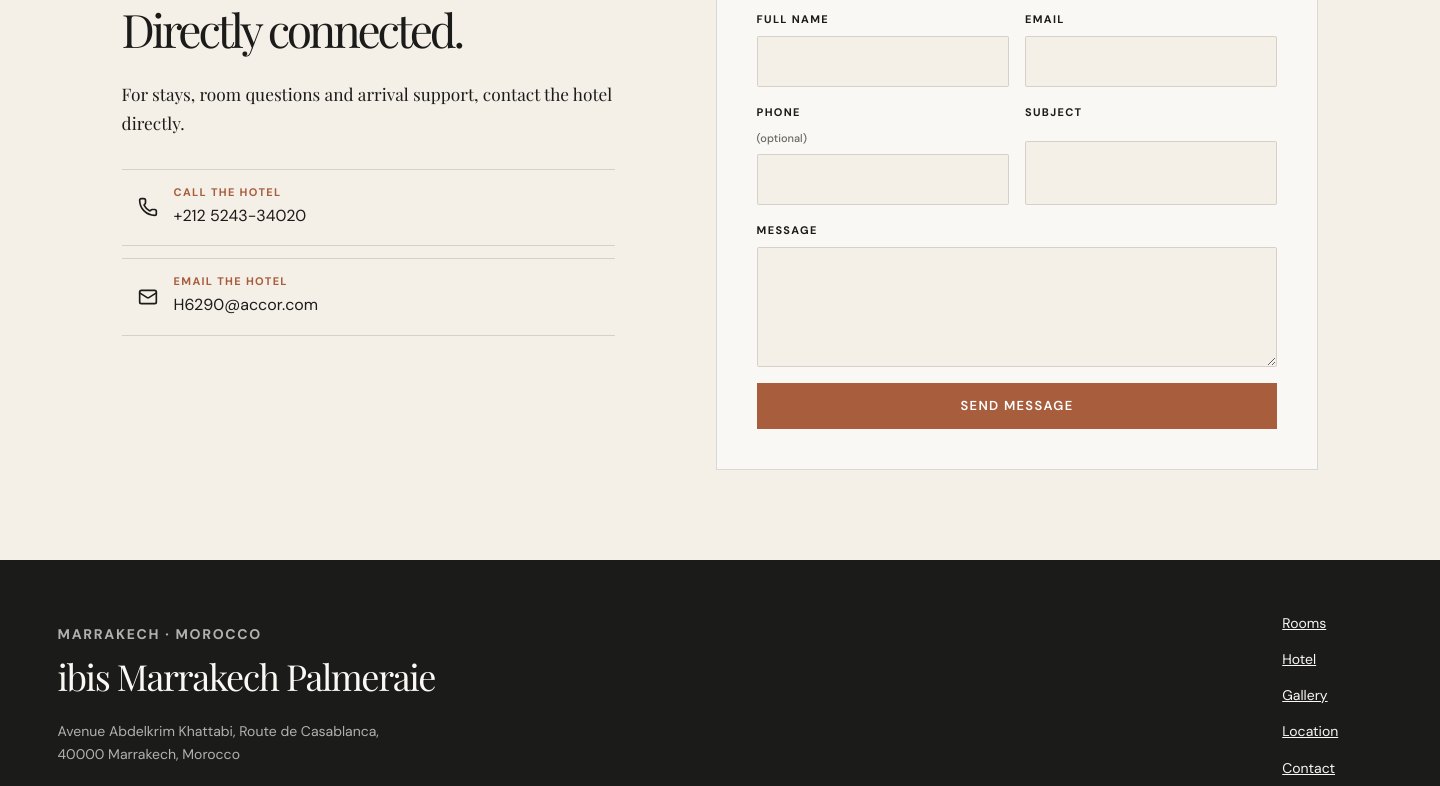
Scenario: page audit refinements › keeps contact focused on direct actions and places the existing message form in the right column
(page scrolled)
expect the field labelled "Full name" is shown: met, box x1=757 y1=36 x2=1009 y2=87
Step 1. Click the button "Send message" → [1017, 406], box x1=757 y1=382 x2=1277 y2=428
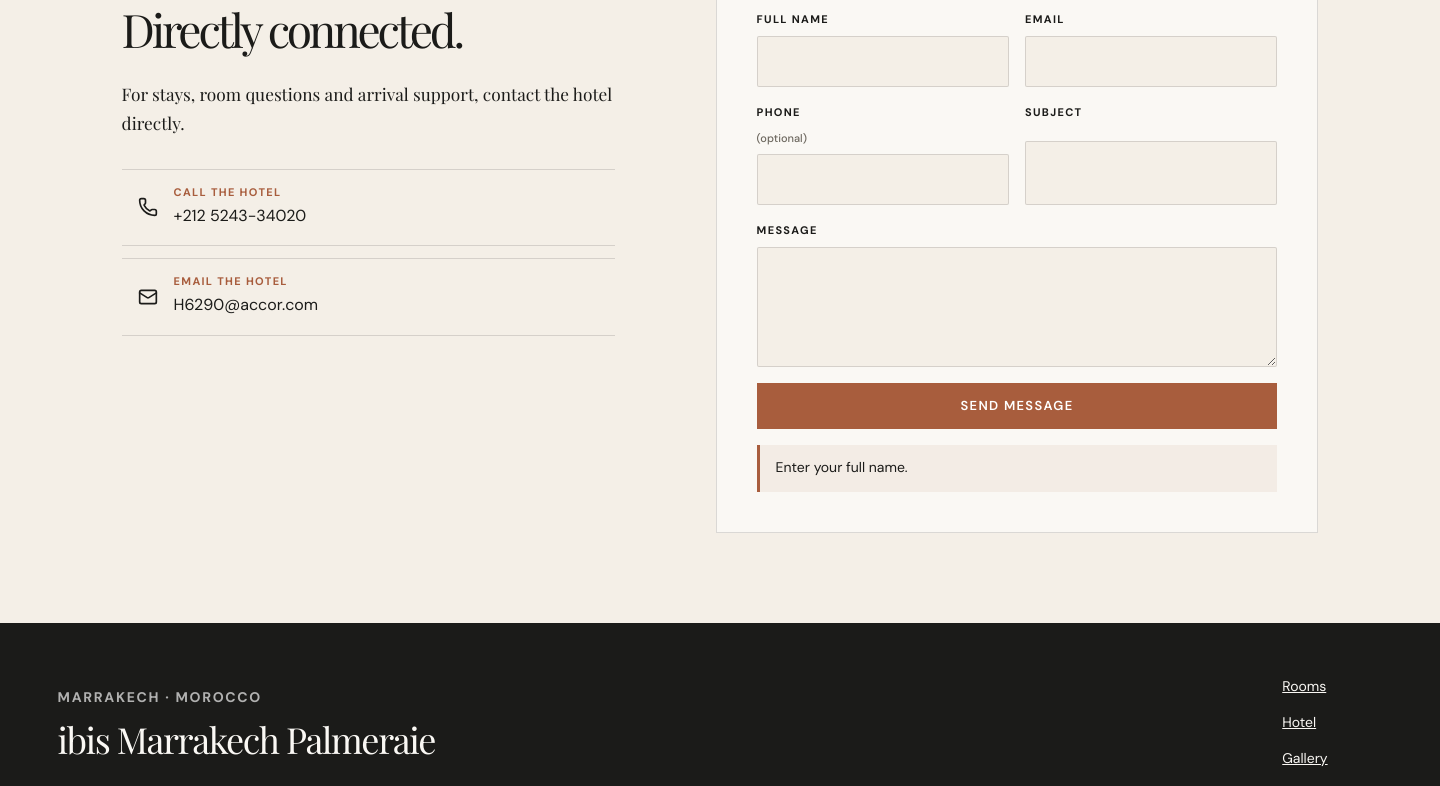
expect the message shows "Enter your full name": met, box x1=776 y1=458 x2=908 y2=476
